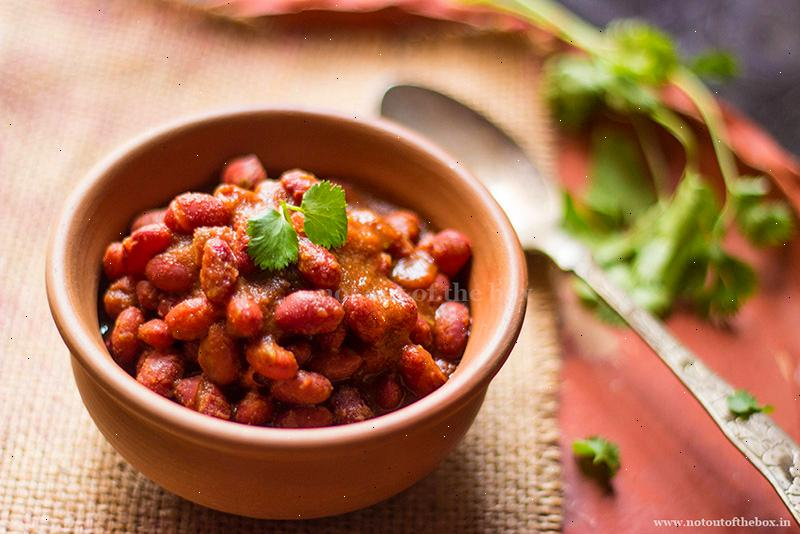rajma: (99, 156, 500, 459)
